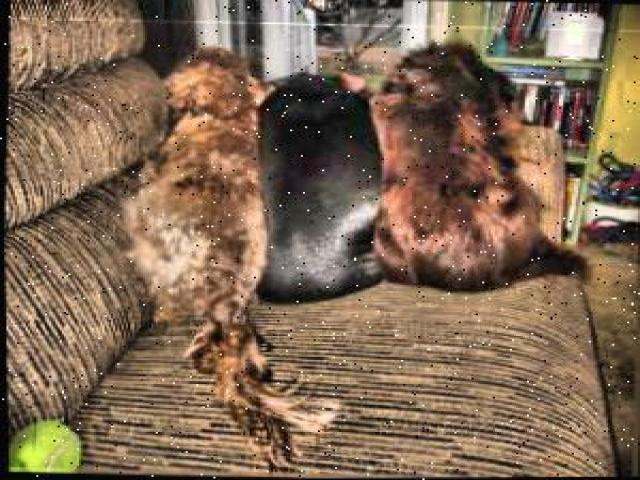tennis-ball: (6, 419, 81, 474)
